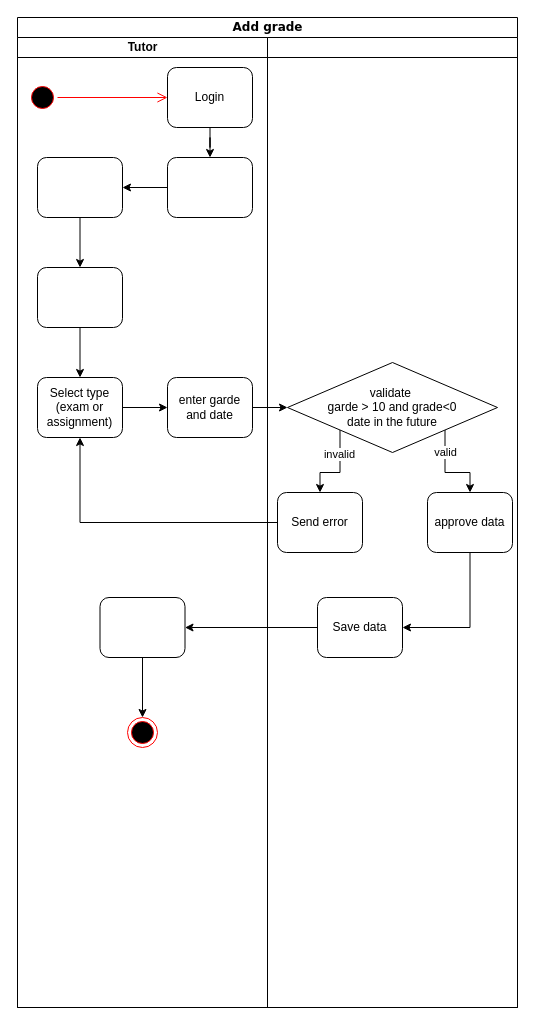
The diagram is 535 pixels wide and 1025 high, and some of its shapes have lost their labels. Each missing label, with the box of its shape:
Application: (266, 36, 518, 1008)
Choose student in list student approved: (36, 156, 122, 218)
click button plus: (36, 266, 122, 328)
click function grade in page home: (166, 156, 252, 218)
notify: success: (99, 596, 185, 658)
